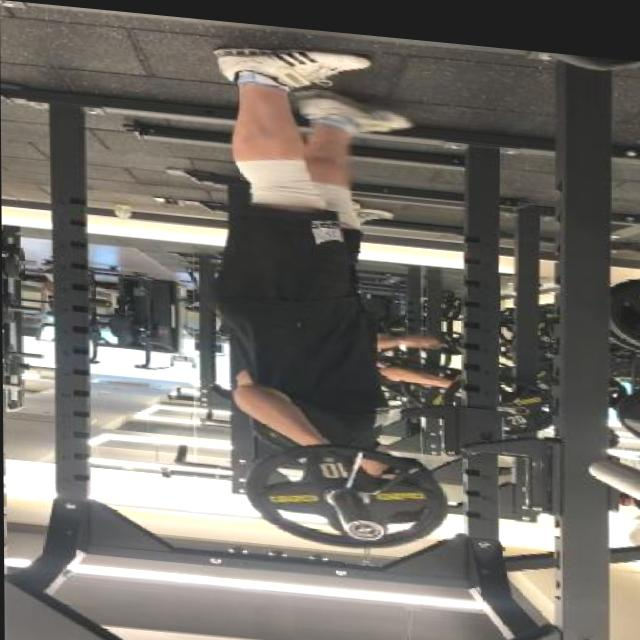barbell: (228, 425, 469, 555)
